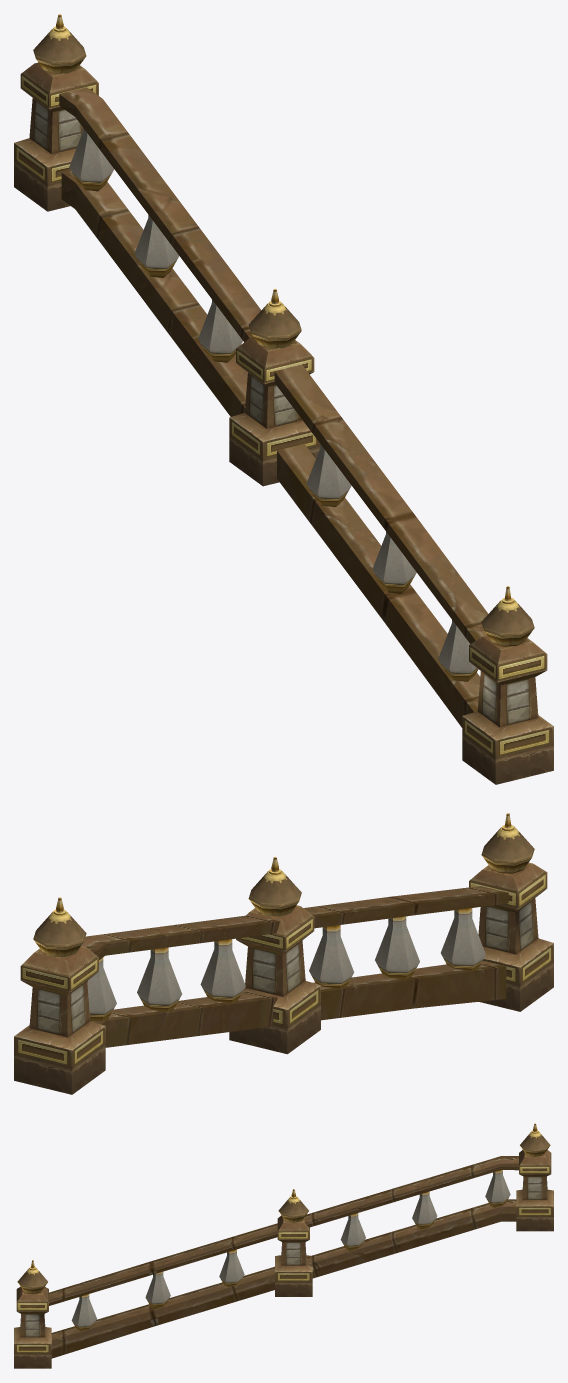
Rendered from DN_mcmbdstair01.FBX.
3 renders of one model, top to bottom at view 1: azimuth 30°, elevation 25°; view 2: azimuth 150°, elevation 25°; view 3: azimuth 270°, elevation 25°, orthographic. The views are drawn at different scales.
Visible parts, largest first — view 1: DN_mcmbdstair01; view 2: DN_mcmbdstair01; view 3: DN_mcmbdstair01.
Part boxes in pixels (bbox=[...]): DN_mcmbdstair01: bbox=[14, 14, 553, 784]; DN_mcmbdstair01: bbox=[14, 813, 553, 1094]; DN_mcmbdstair01: bbox=[14, 1123, 553, 1368].
Bounding box in the file's own units: 112 × 778 × 1608.
1 material, 1 textured.
